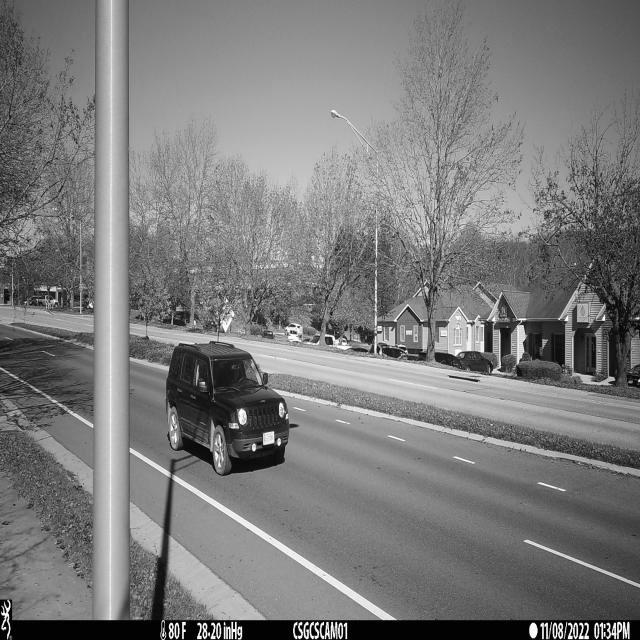SUV: (166, 345, 294, 477)
